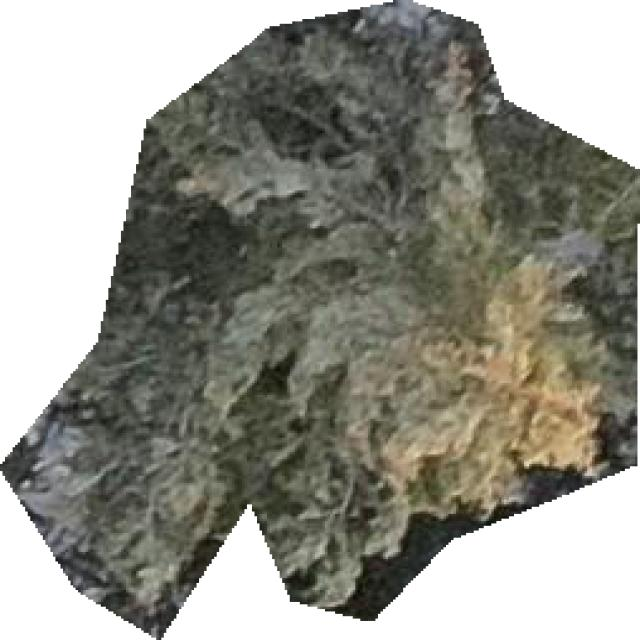spruce: (0, 0, 637, 638)
